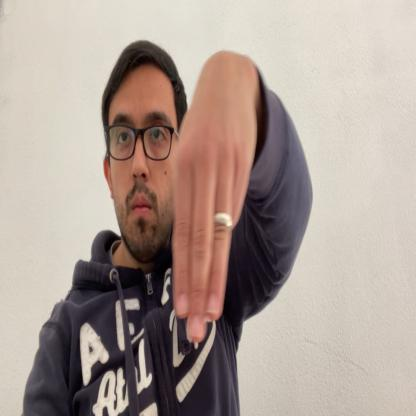M: (174, 58, 258, 342)
